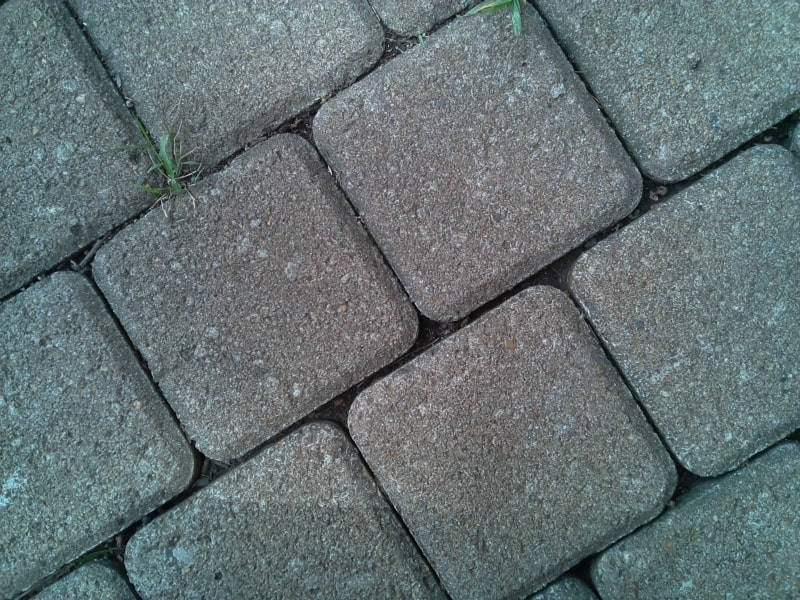Weed: (129, 136, 203, 204), (467, 1, 544, 25)
